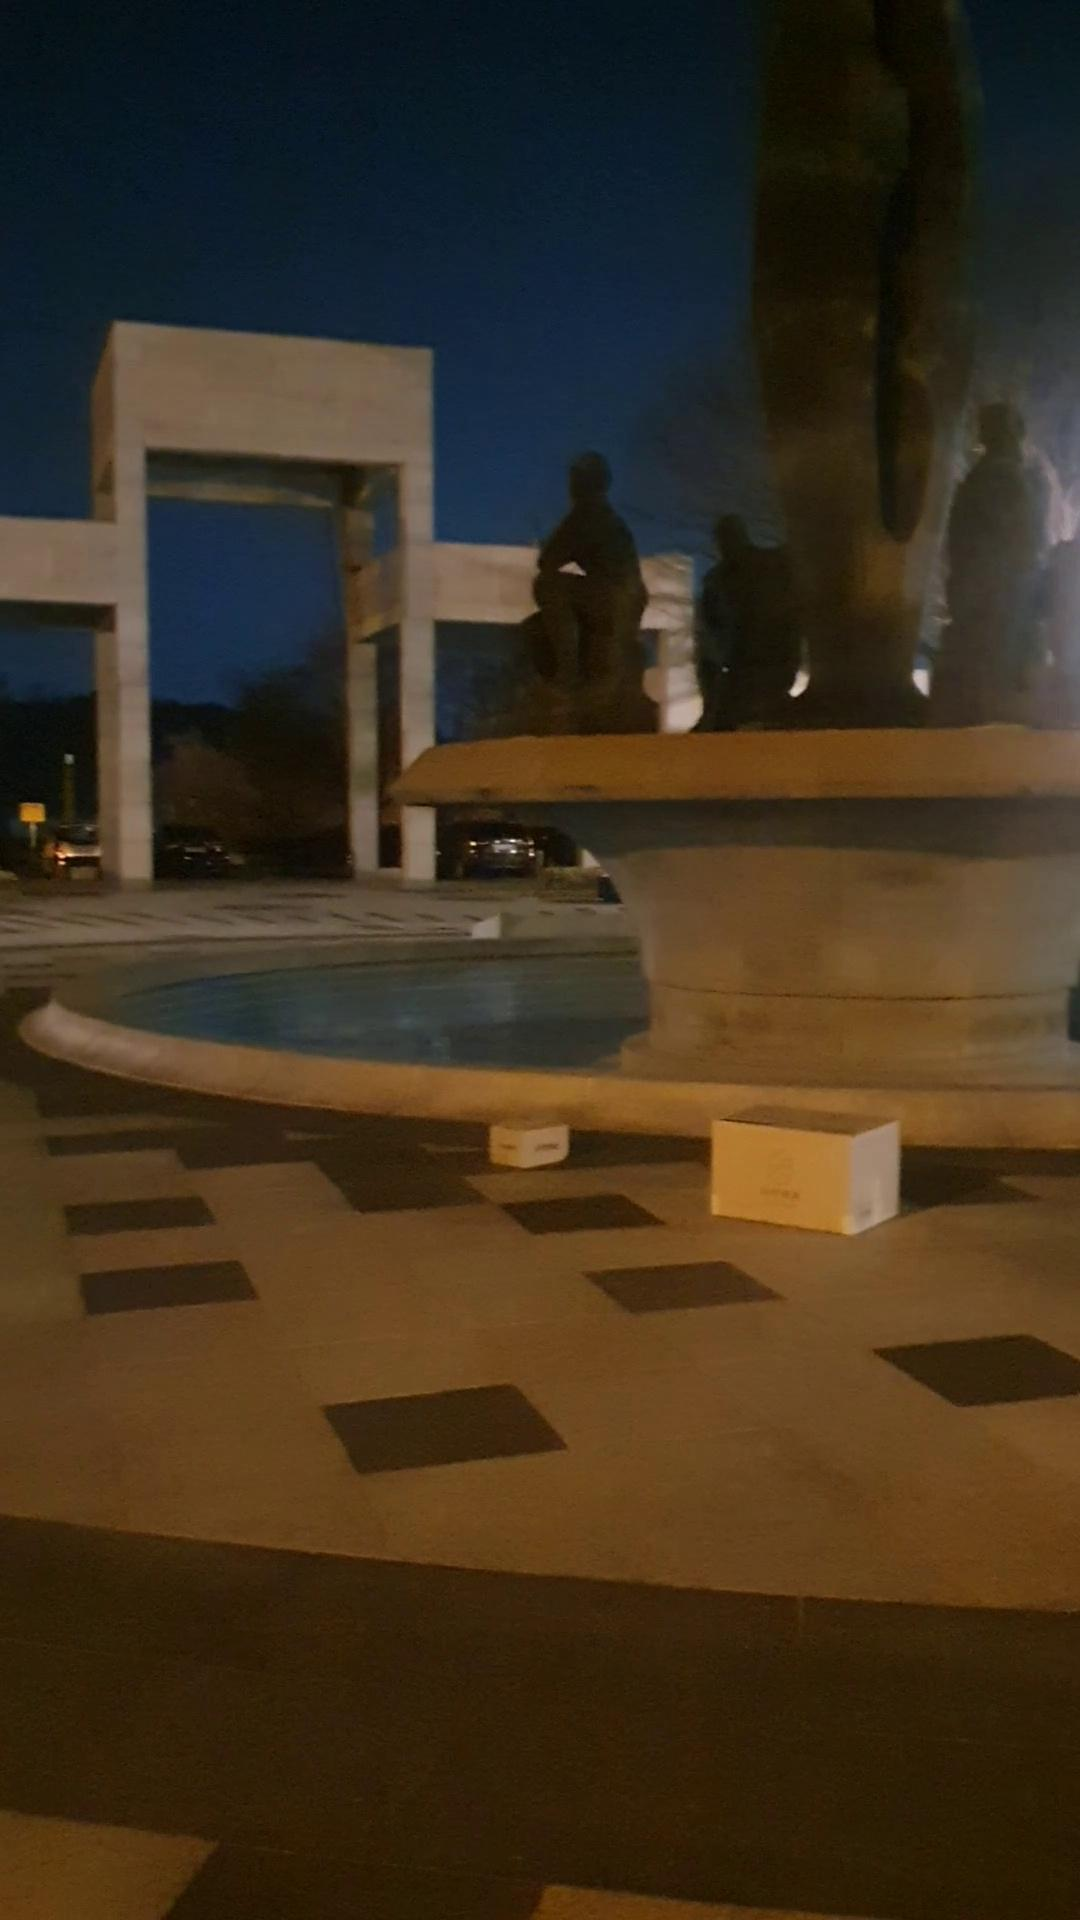Box: (698, 1100, 924, 1237), (465, 1098, 585, 1178)
